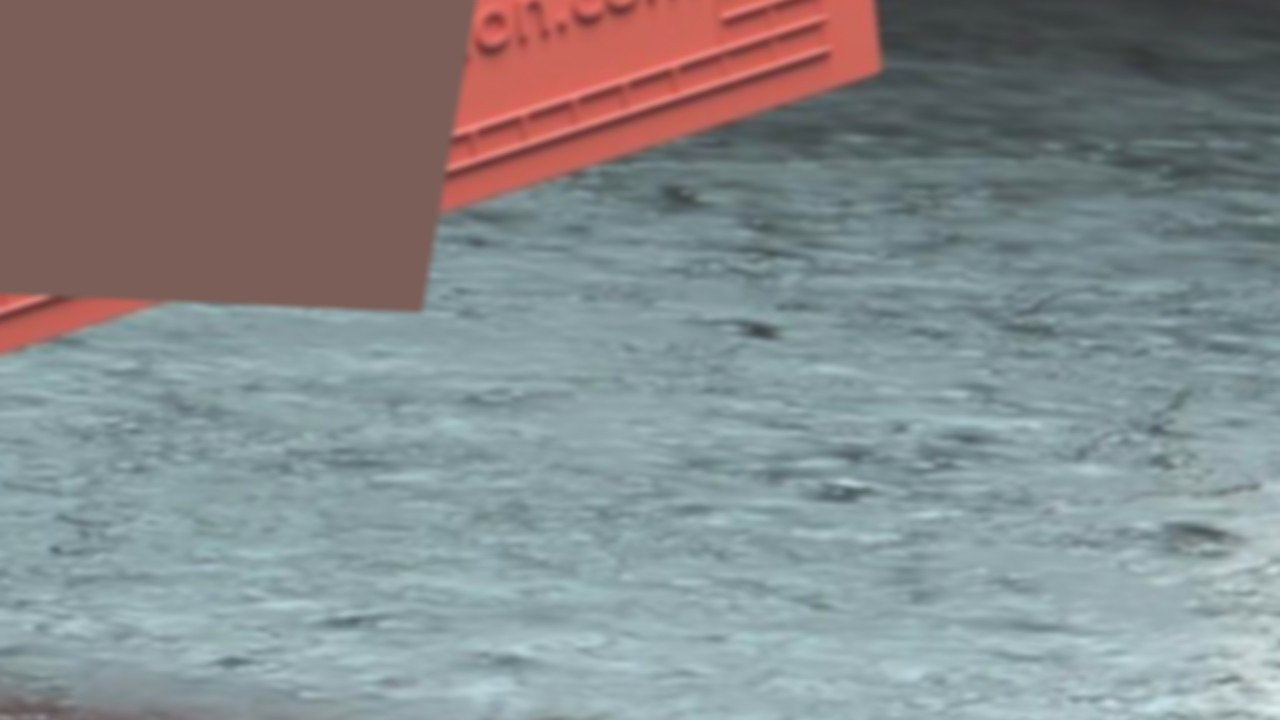chock: (0, 0, 1020, 471)
